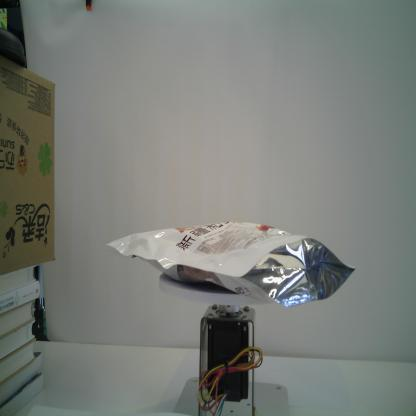Dried Food: (102, 214, 360, 310)
